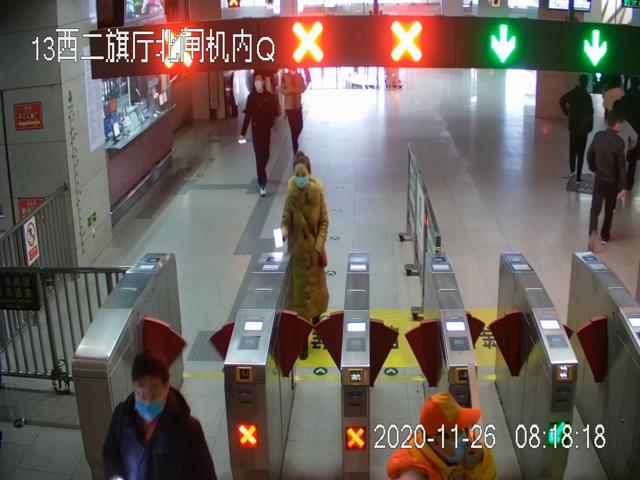person: (280, 151, 329, 359), (588, 109, 627, 253), (240, 69, 278, 198)
